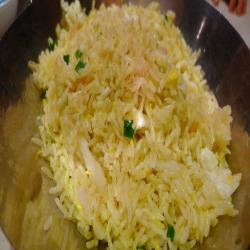rice: (59, 20, 209, 250)
